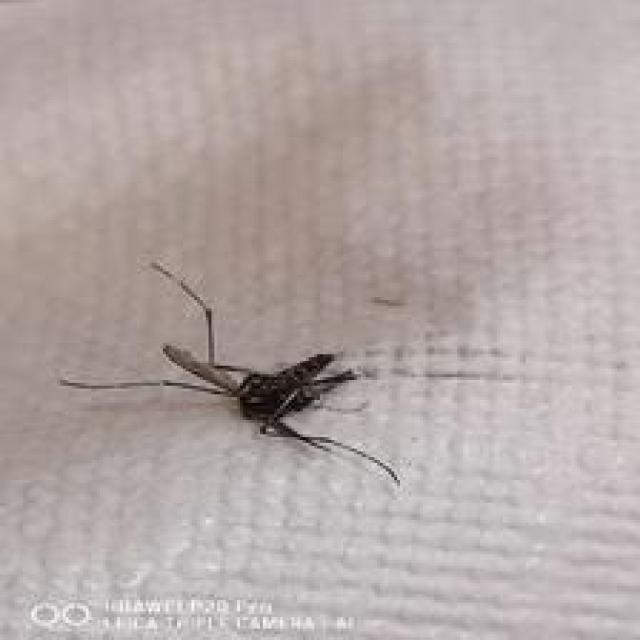Aedes albopictus: (57, 257, 403, 489)
